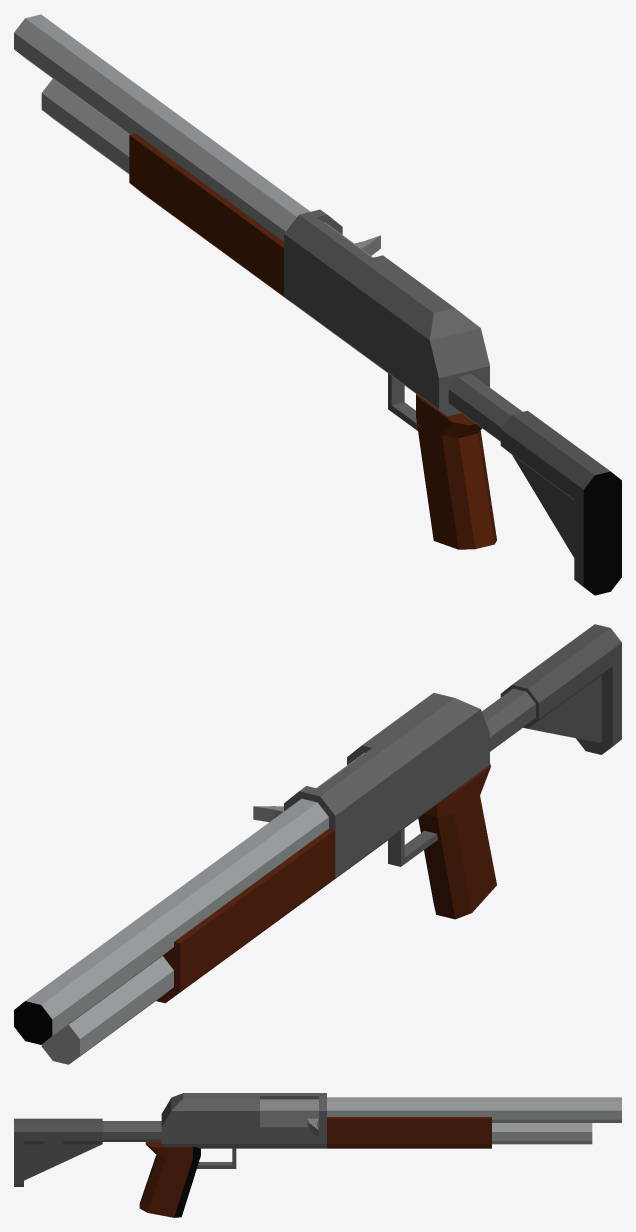
Rendered from shotgun.gltf.
3 renders of one model, top to bottom at view 1: azimuth 30°, elevation 25°; view 2: azimuth 150°, elevation 25°; view 3: azimuth 270°, elevation 25°, orthographic. The views are drawn at different scales.
Visible parts, largest first — view 1: Receiver (×4), Barrel, Stock, Grip, Handguard, Magazine, Buffer, Triggerguard; view 2: Receiver (×4), Barrel, Stock, Handguard, Grip, Magazine, Buffer, Triggerguard; view 3: Receiver (×4), Barrel, Handguard, Stock, Grip, Magazine, bolt, Buffer, Triggerguard.
Part boxes in pixels (x1=…): Receiver (×4): x1=284, y1=209, x2=489, y2=416; Barrel: x1=14, y1=14, x2=310, y2=241; Stock: x1=500, y1=410, x2=621, y2=595; Grip: x1=416, y1=394, x2=496, y2=549; Handguard: x1=129, y1=133, x2=296, y2=306; Magazine: x1=41, y1=79, x2=129, y2=174; Buffer: x1=448, y1=374, x2=522, y2=441; Triggerguard: x1=388, y1=373, x2=417, y2=430; Receiver (×4): x1=284, y1=693, x2=489, y2=887; Barrel: x1=14, y1=798, x2=328, y2=1044; Stock: x1=500, y1=624, x2=621, y2=754; Handguard: x1=156, y1=828, x2=335, y2=1003; Grip: x1=418, y1=763, x2=496, y2=919; Magazine: x1=41, y1=956, x2=173, y2=1064; Buffer: x1=482, y1=688, x2=535, y2=751; Triggerguard: x1=388, y1=828, x2=437, y2=866; Receiver (×4): x1=161, y1=1093, x2=326, y2=1148; Barrel: x1=327, y1=1097, x2=621, y2=1122; Handguard: x1=327, y1=1117, x2=491, y2=1148; Stock: x1=14, y1=1118, x2=102, y2=1186; Grip: x1=139, y1=1142, x2=200, y2=1217; Magazine: x1=492, y1=1123, x2=592, y2=1144; bolt: x1=260, y1=1099, x2=318, y2=1125; Buffer: x1=102, y1=1121, x2=161, y2=1141; Triggerguard: x1=197, y1=1148, x2=236, y2=1168.
Bounding box in the file's own units: 0.175 × 0.4168 × 1.93.
1 material, 1 textured.
